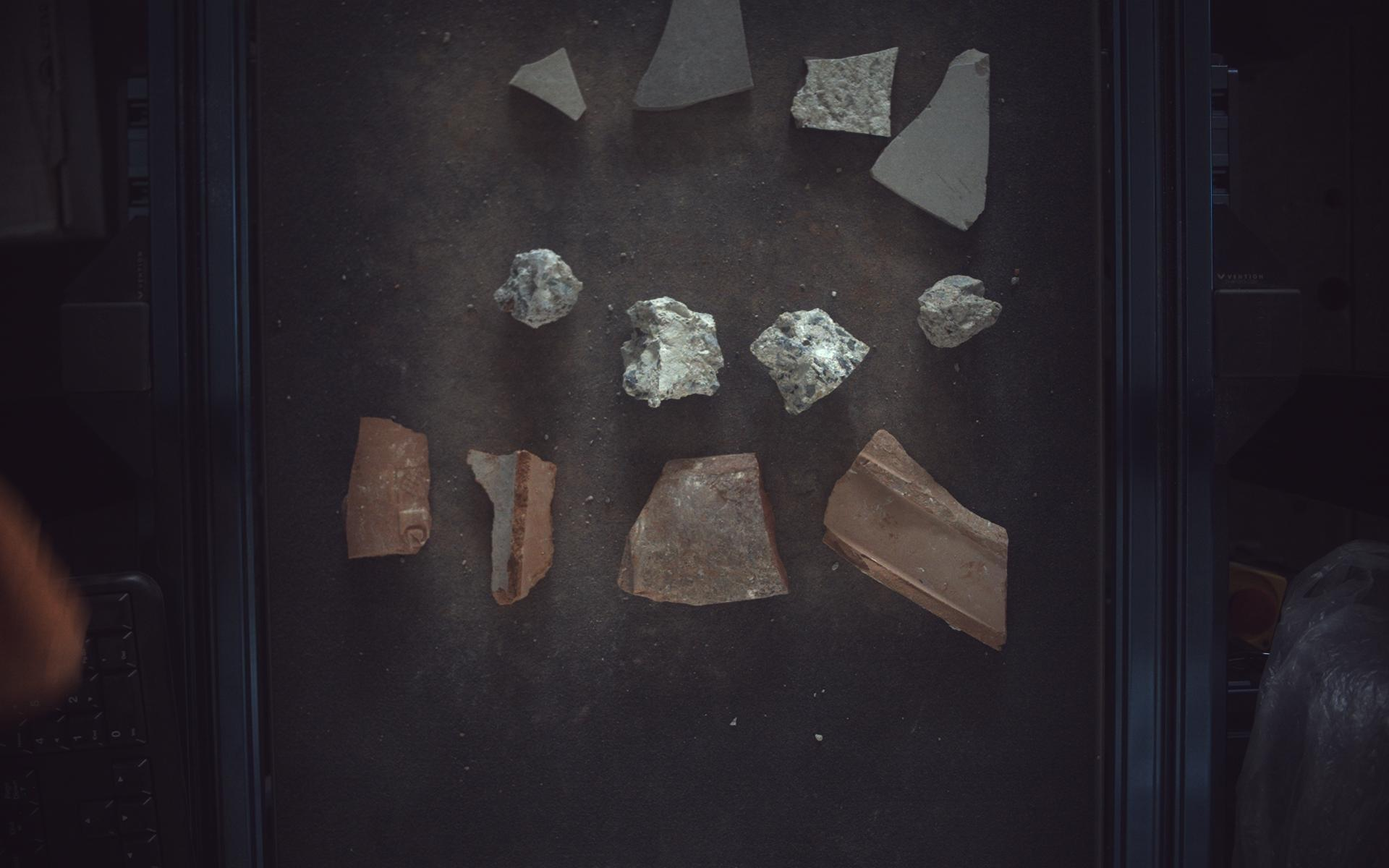brick: (825, 430, 1010, 650), (619, 454, 790, 606), (468, 450, 557, 605), (343, 417, 430, 559)
concrete: (752, 308, 872, 414), (621, 297, 725, 408), (494, 248, 583, 328), (920, 274, 1004, 348)
tile: (872, 48, 992, 229), (634, 1, 754, 109), (792, 46, 900, 136), (510, 46, 587, 119)
